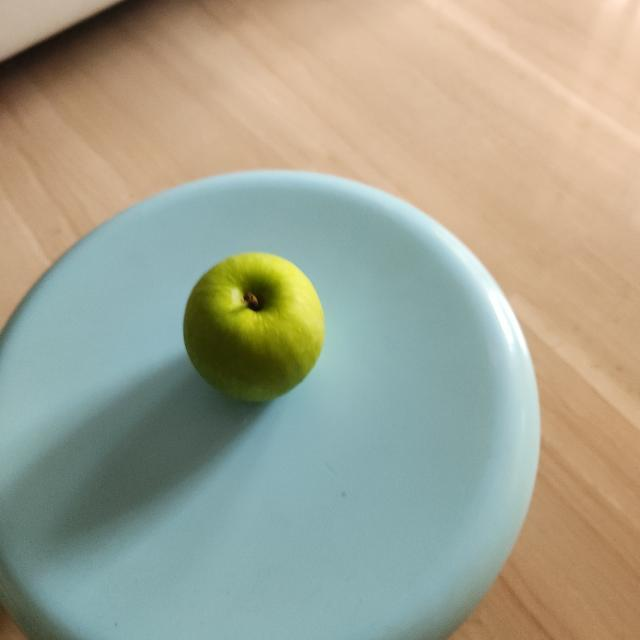apple: (173, 252, 325, 410)
